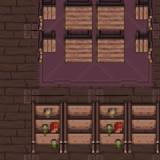Obstacle: (62, 100, 96, 154), (127, 99, 160, 153), (96, 100, 128, 154), (32, 99, 62, 154), (94, 30, 128, 66), (61, 30, 94, 66), (128, 30, 160, 66), (32, 30, 61, 66), (94, 0, 128, 30), (61, 0, 94, 30), (128, 0, 160, 30), (32, 0, 61, 30)
